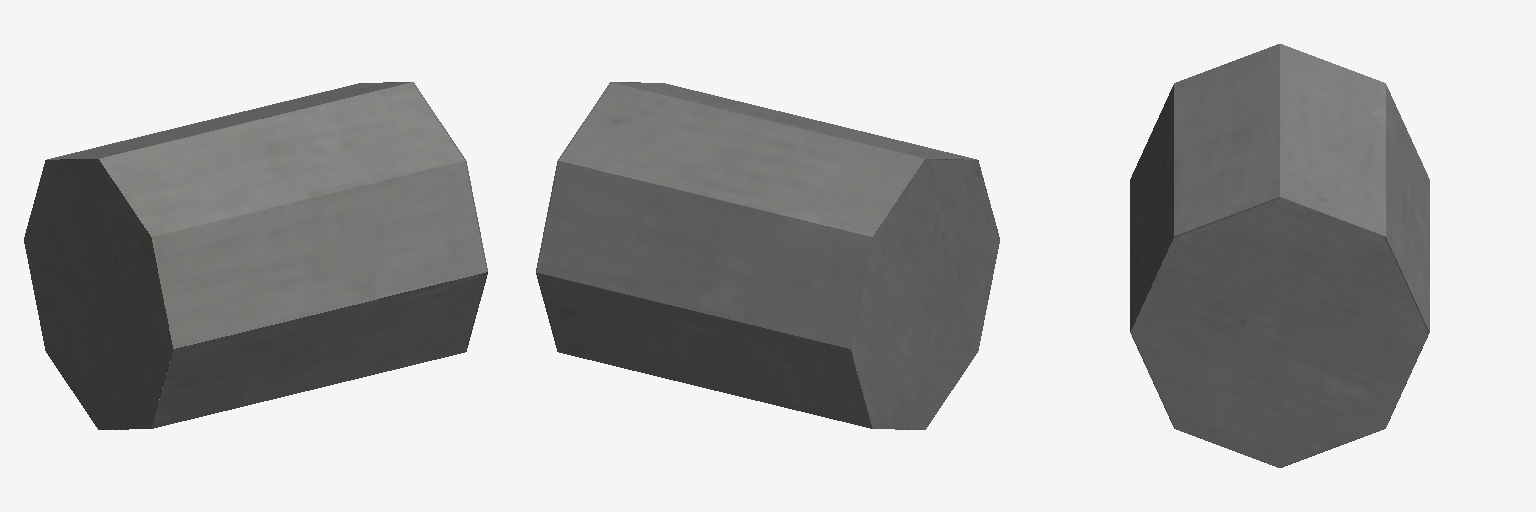
3 renders of one model, left to right at view 1: azimuth 30°, elevation 25°; view 2: azimuth 150°, elevation 25°; view 3: azimuth 270°, elevation 25°, orthographic.
Parts seen in each view (by area): view 1: Wire Spool_grp Fishingrod_grp; view 2: Wire Spool_grp Fishingrod_grp; view 3: Wire Spool_grp Fishingrod_grp.
Part boxes in pixels (x1,y1,x2,y2): Wire Spool_grp Fishingrod_grp: (24,82,487,429); Wire Spool_grp Fishingrod_grp: (536,82,999,429); Wire Spool_grp Fishingrod_grp: (1130,44,1429,467).
Size of the model in its own units: 3.65 by 3.01 by 3.01.
Materials: 1 (1 with a texture image).